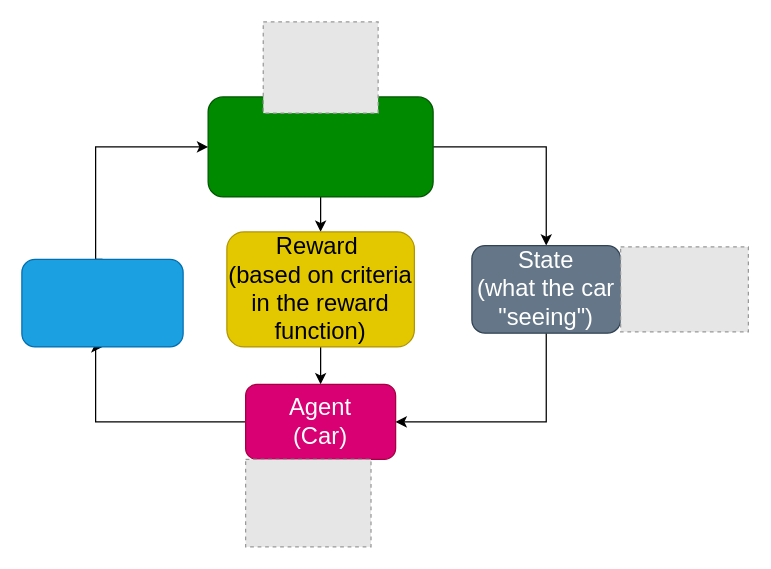
The diagram is 771 pixels wide and 569 high, and some of its shapes have lost their labels. Grey dashed boxes stand in for pictures. The shapes that lost their labels are listed below. From the top down, each one's centre as x and y in pixels, then its label:
At (320,146): "Environment (Track)".
At (102,302): "Action (turning, steering)".
